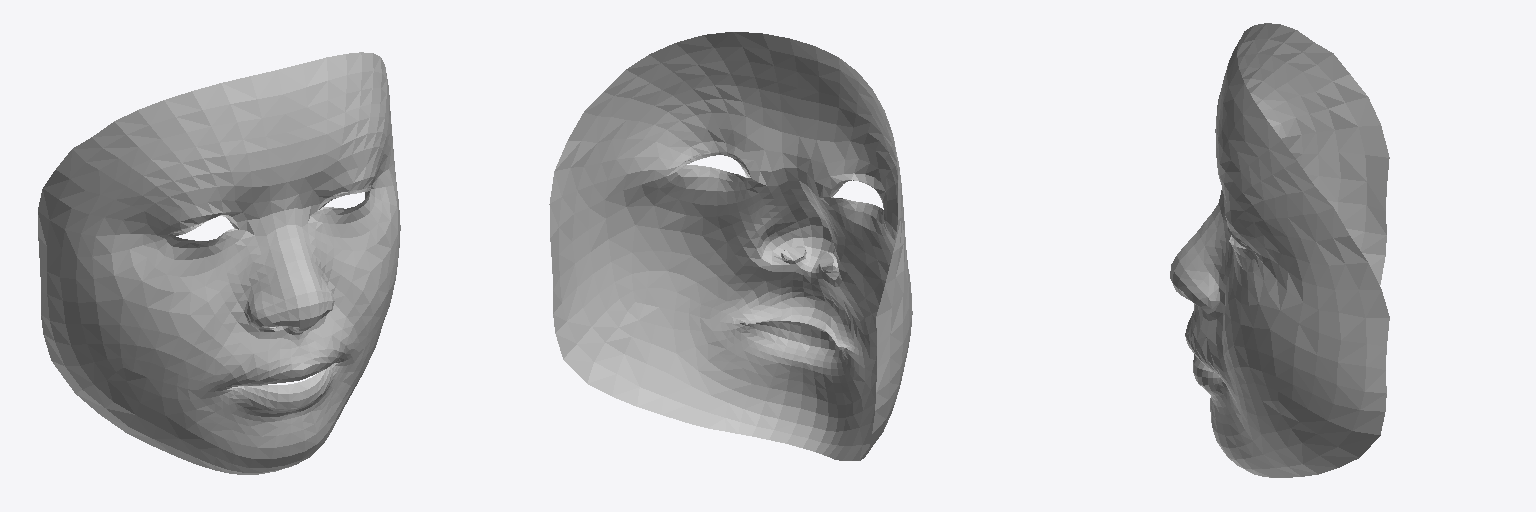
The model's file is eyeLookUp_R.obj.
3 renders of one model, left to right at view 1: azimuth 30°, elevation 25°; view 2: azimuth 150°, elevation 25°; view 3: azimuth 270°, elevation 25°, orthographic.
Parts seen in each view (by area): view 1: default; view 2: default; view 3: default.
Part boxes in pixels (bbox=[...]): default: bbox=[38, 52, 400, 474]; default: bbox=[549, 32, 912, 460]; default: bbox=[1170, 23, 1389, 477].
Size of the model in its own units: 0.1624 by 0.1851 by 0.0913.